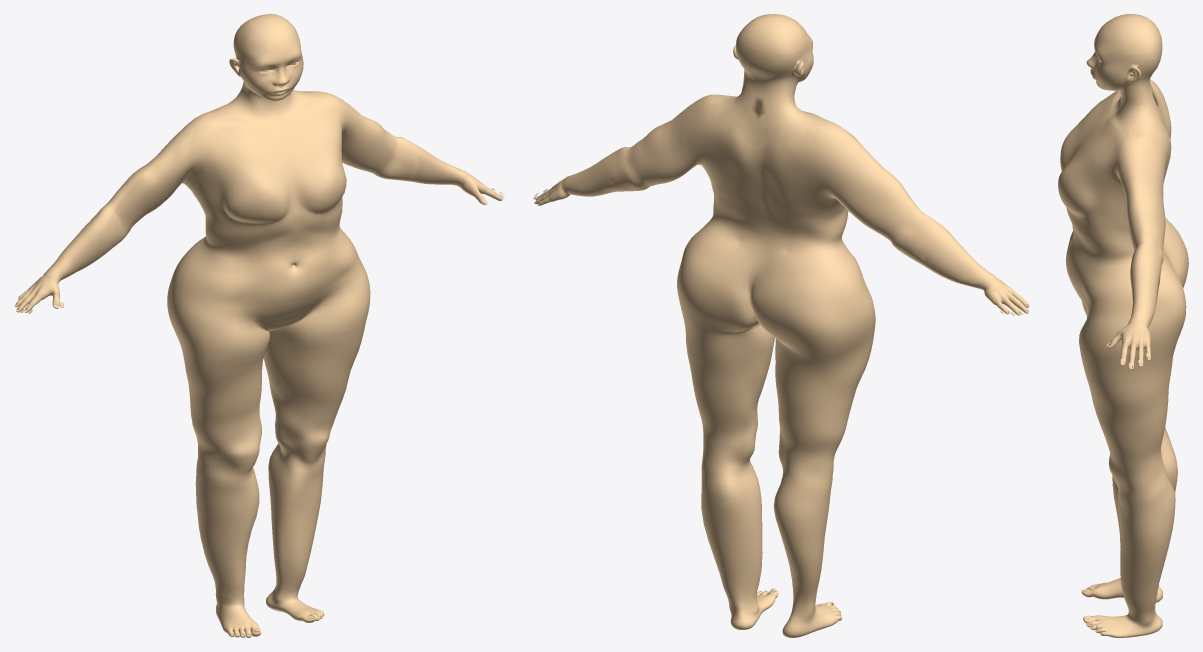
File: female_XXL_1.glb
The picture shows the model from 3 angles, left to right: view 1: azimuth 30°, elevation 25°; view 2: azimuth 150°, elevation 25°; view 3: azimuth 270°, elevation 25°; orthographic projection.
Parts seen in each view (by area): view 1: Body; view 2: Body; view 3: Body.
Part boxes in pixels (x1,y1,x2,y2): Body: (14,14,503,637); Body: (534,14,1029,637); Body: (1058,14,1188,637).
Size of the model in its own units: 1.59 by 1.88 by 0.3691.
